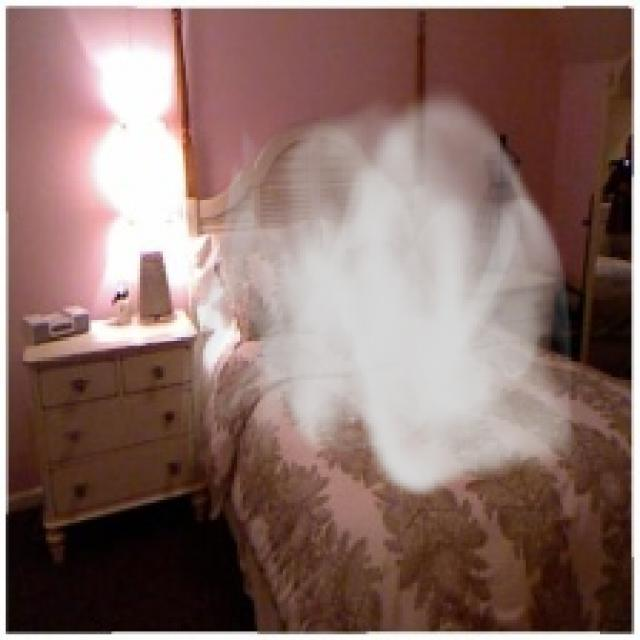smoke: (177, 80, 586, 500)
